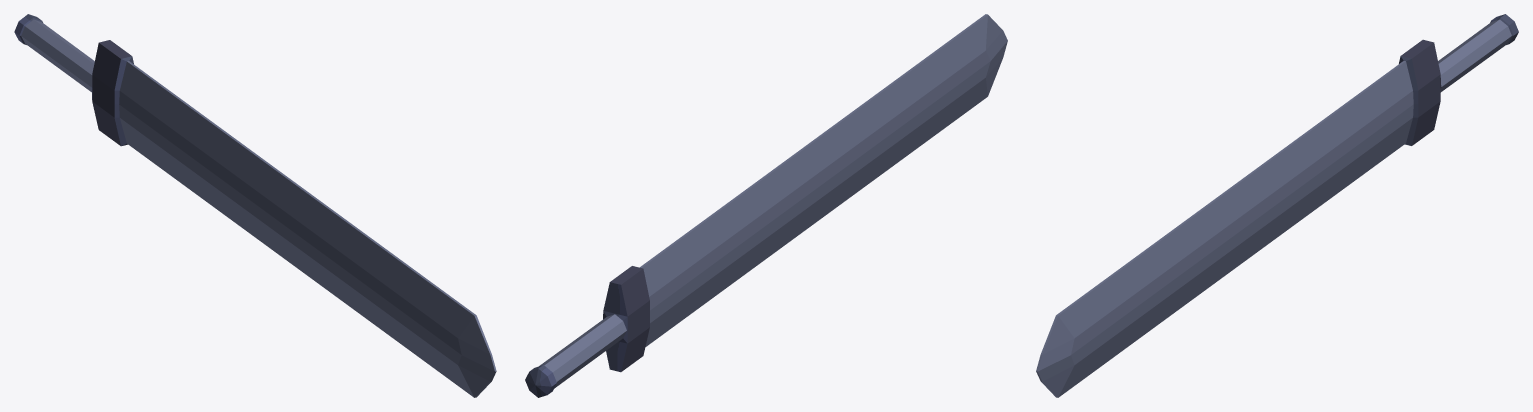
File: Sword.fbx
The picture shows the model from 3 angles, left to right: view 1: azimuth 30°, elevation 25°; view 2: azimuth 150°, elevation 25°; view 3: azimuth 330°, elevation 25°; orthographic projection.
Visible parts, largest first — view 1: Cube; view 2: Cube; view 3: Cube.
Part boxes in pixels (<box>): Cube: <box>14,14,496,397</box>; Cube: <box>525,14,1007,397</box>; Cube: <box>1036,14,1518,397</box>.
Size of the model in its own units: 28.32 by 87.53 by 855.
